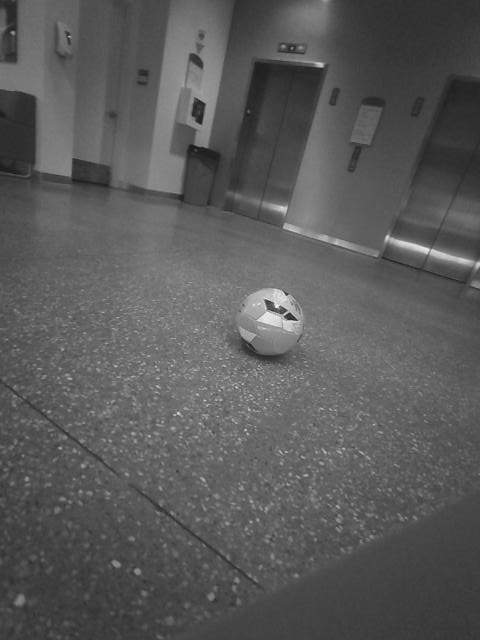ball: (210, 169, 243, 200)
